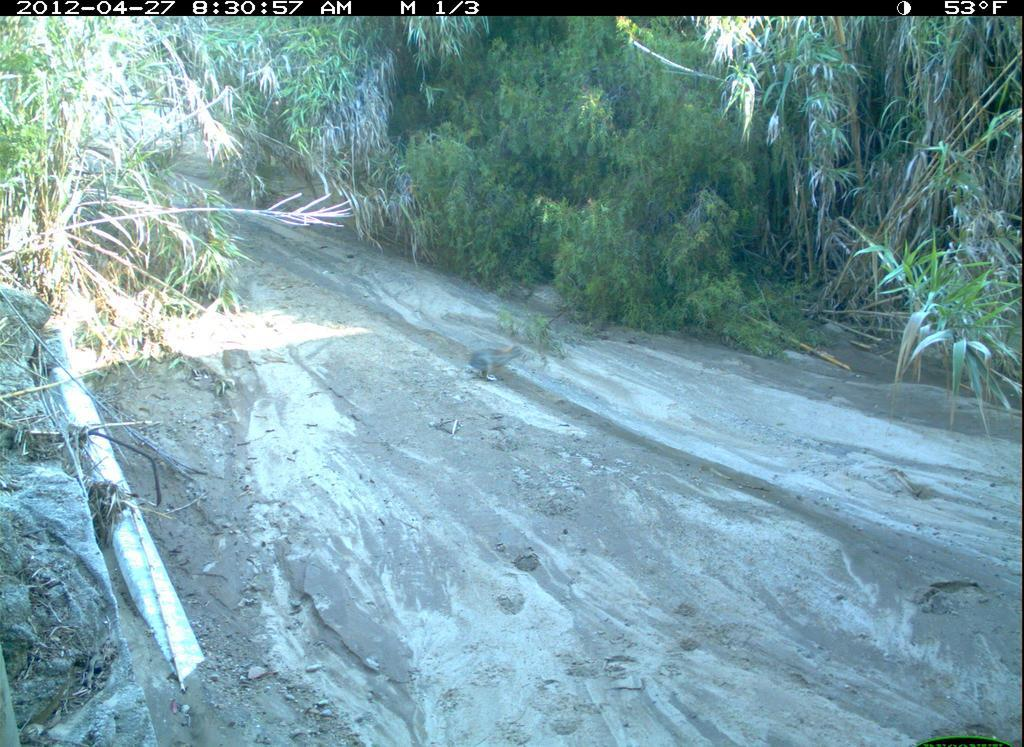rabbit: (926, 678, 1024, 747)
